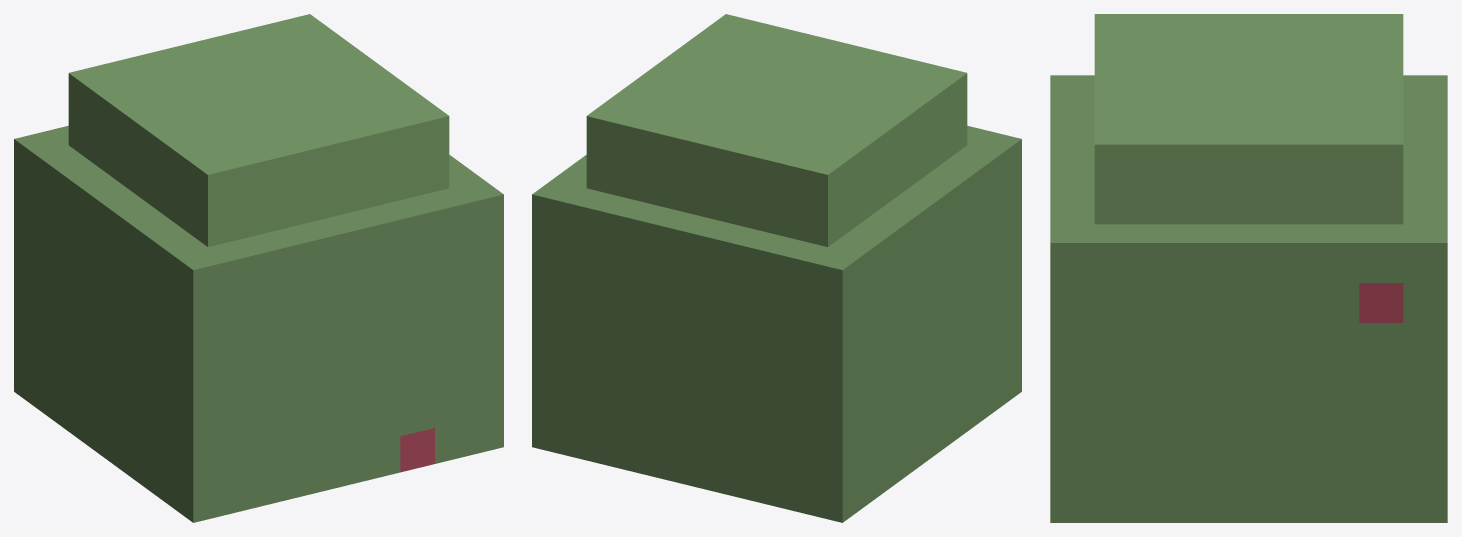
The model's file is arandano_rojo_01.glb.
3 views of the same model, side by side, from view 1: azimuth 30°, elevation 25°; view 2: azimuth 150°, elevation 25°; view 3: azimuth 270°, elevation 25° (orthographic). The views are drawn at different scales.
Visible parts, largest first — view 1: arandano_rojo_01; view 2: arandano_rojo_01; view 3: arandano_rojo_01.
Part boxes in pixels (bbox=[...]): arandano_rojo_01: bbox=[14, 14, 503, 522]; arandano_rojo_01: bbox=[532, 14, 1021, 522]; arandano_rojo_01: bbox=[1050, 14, 1447, 522].
Bounding box in the file's own units: 0.9 × 0.9 × 0.9.
